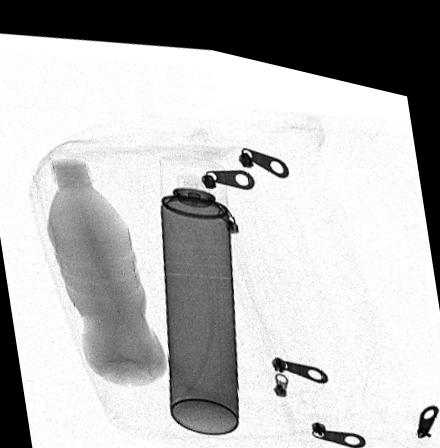Sprayer: (159, 145, 238, 423)
